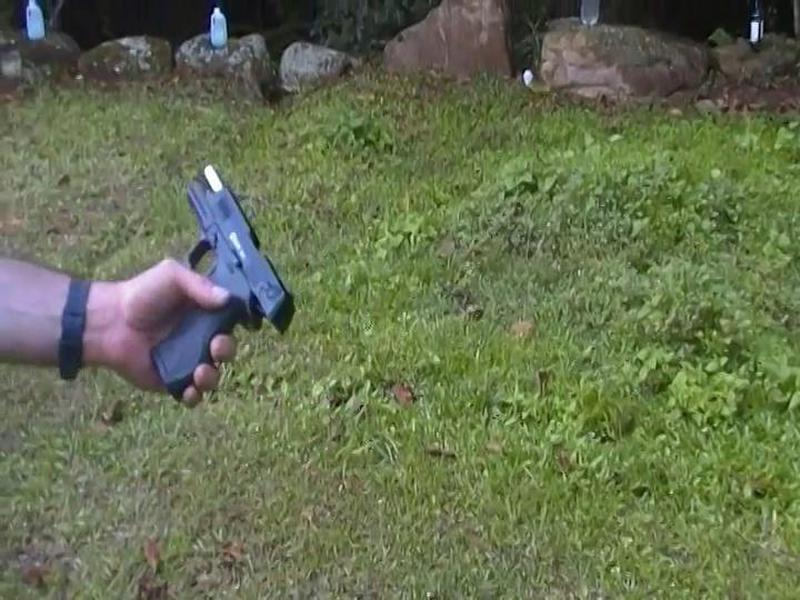Pistola: (137, 162, 306, 406)
